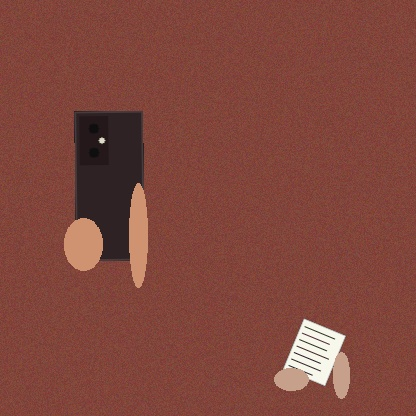cell_phone: (74, 111, 144, 261)
cheat_chit: (283, 318, 346, 386)
